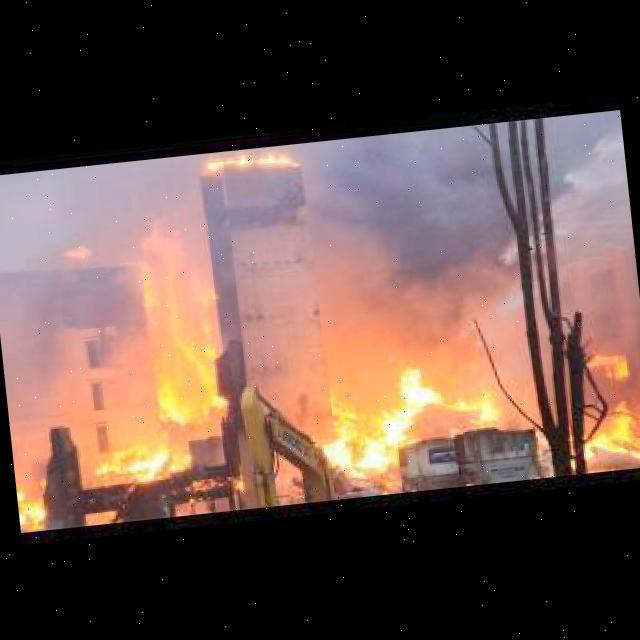fire: (302, 358, 501, 492), (195, 144, 312, 176), (578, 393, 640, 451), (576, 338, 634, 383)
